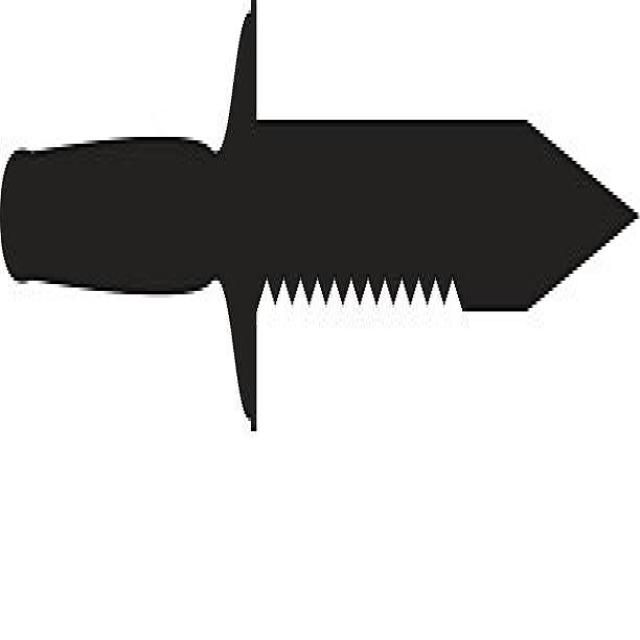knife: (1, 1, 640, 440)
